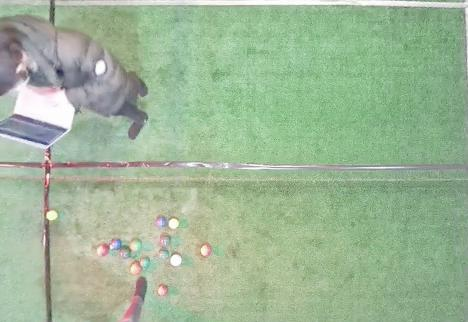blue: (156, 216, 166, 227), (112, 239, 121, 249)
green: (129, 239, 142, 251), (160, 235, 171, 245), (120, 248, 130, 259), (140, 257, 150, 268), (160, 251, 169, 260)
red: (170, 254, 182, 266), (130, 262, 141, 275), (96, 245, 109, 256), (157, 285, 168, 296), (201, 245, 211, 257)
vline: (1, 148, 53, 321), (1, 0, 56, 26), (463, 0, 467, 322)
white: (110, 245, 113, 249)
yellow: (46, 210, 58, 221), (168, 218, 179, 229)
